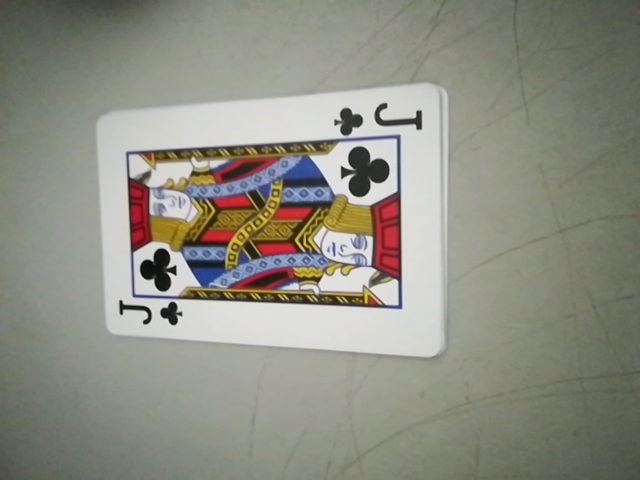mh j: (332, 95, 424, 136), (111, 298, 179, 334)
